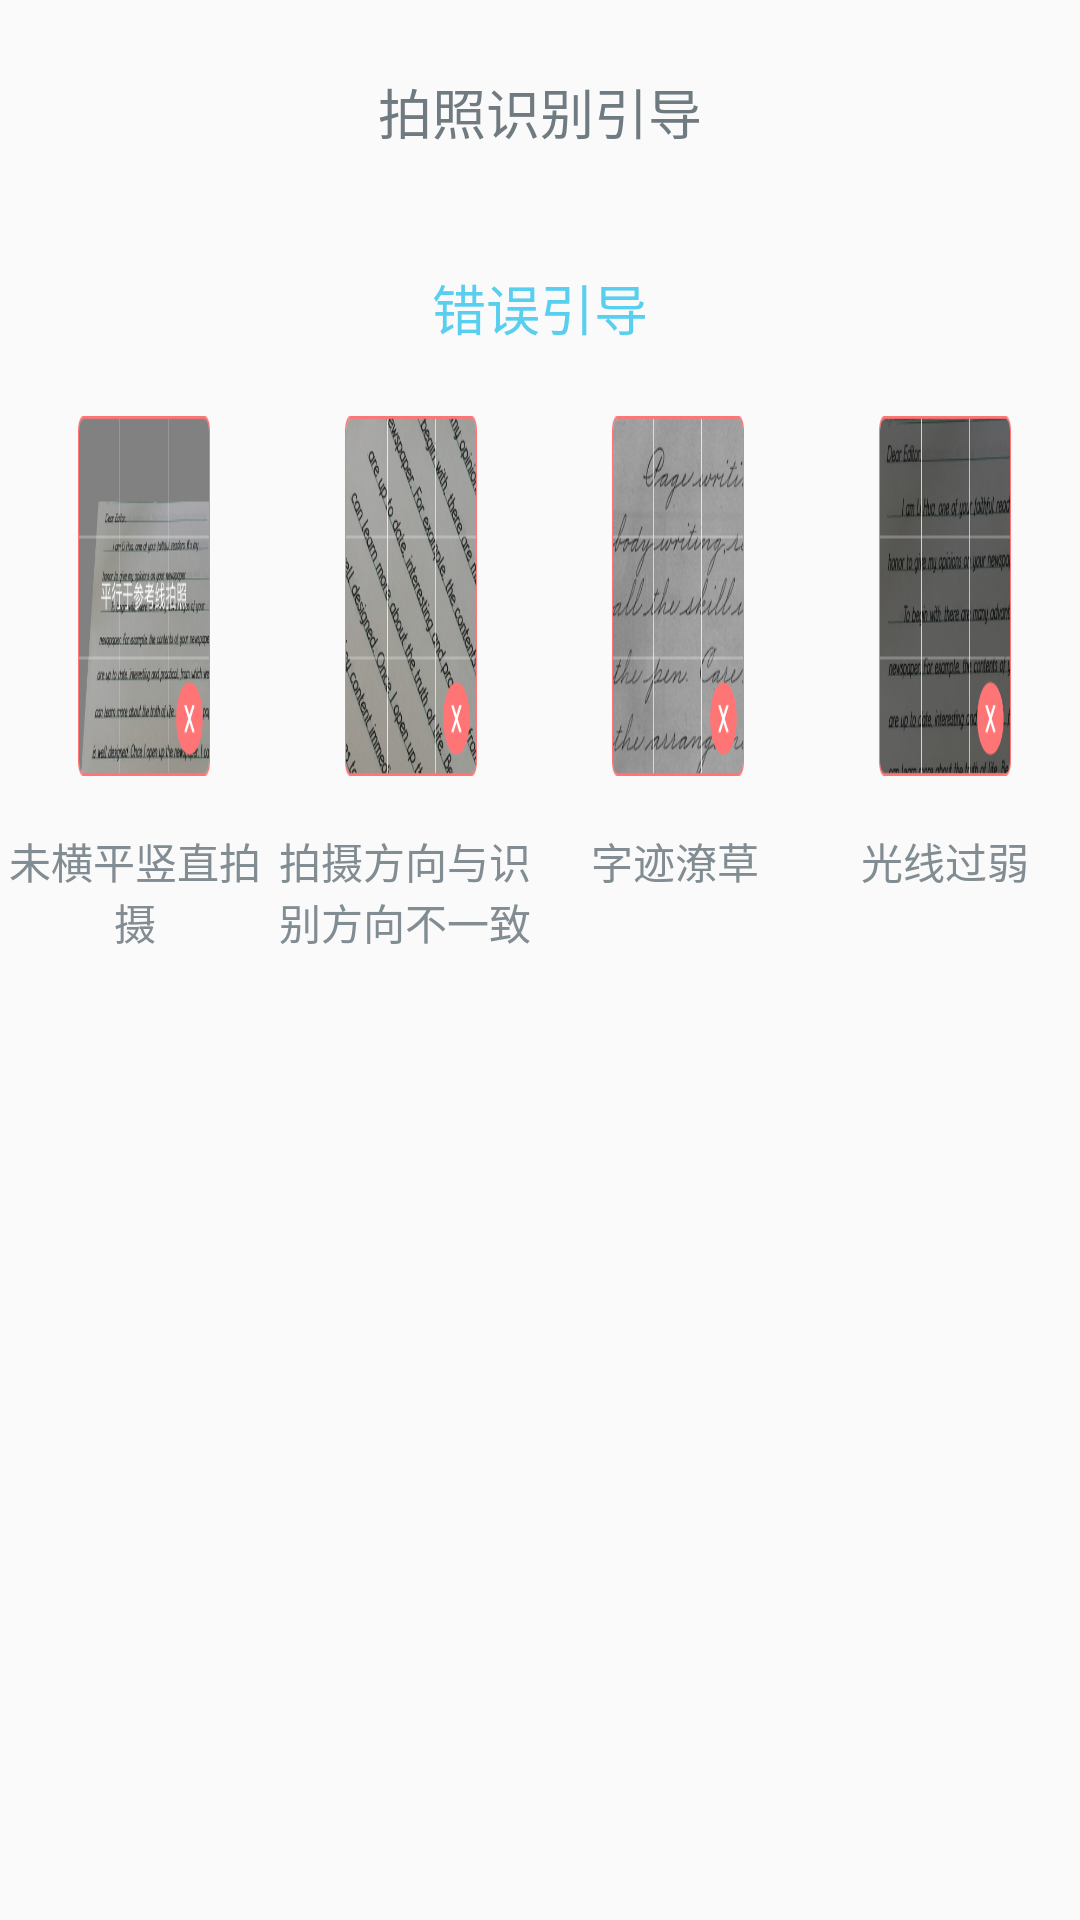

Where icons sit on this 1080 × 1920 app screen, as [x1=x1, y1=y1, x2=x2, y2=y2]:
guide wrong show four: [x1=879, y1=416, x2=1011, y2=776]
guide wrong show one: [x1=78, y1=416, x2=210, y2=776]
guide wrong show three: [x1=612, y1=416, x2=744, y2=776]
guide wrong show two: [x1=345, y1=416, x2=477, y2=776]
